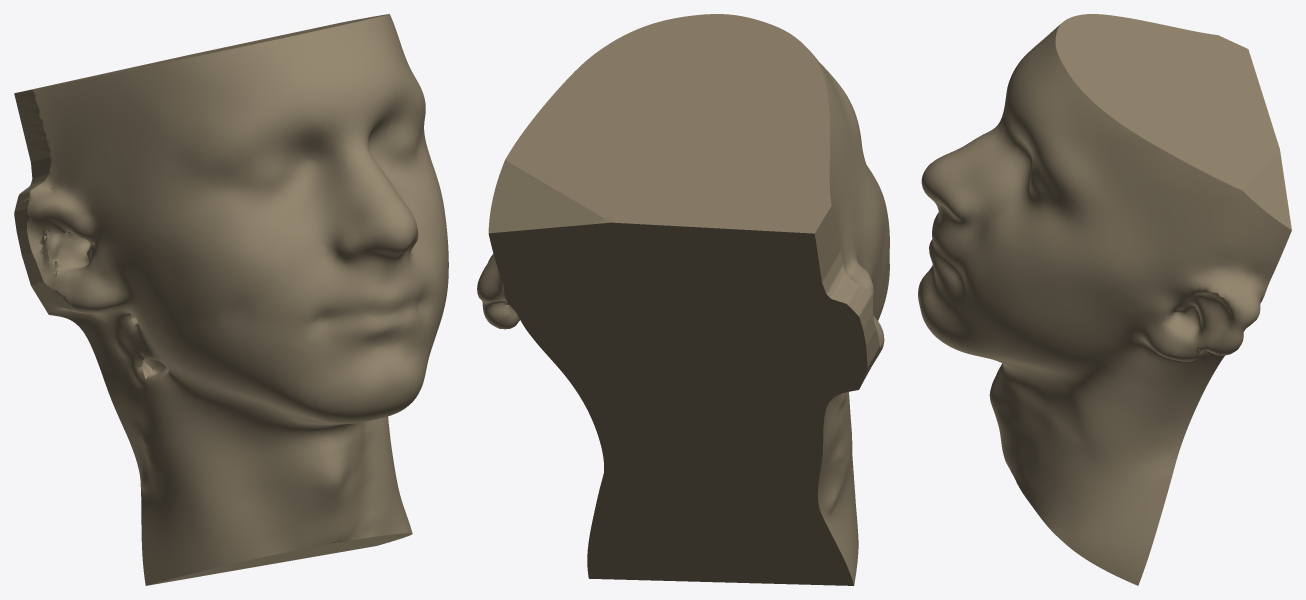
Rendered from fej_2016_v3.glb.
3 renders of one model, left to right at view 1: azimuth 30°, elevation 25°; view 2: azimuth 150°, elevation 25°; view 3: azimuth 270°, elevation 25°, orthographic. The views are drawn at different scales.
Parts seen in each view (by area): view 1: Object_2; view 2: Object_2; view 3: Object_2.
Boxes of the visible parts, x1,y1,x2,y2 form: Object_2: (14,14,448,585); Object_2: (477,14,889,585); Object_2: (918,14,1291,585).
Bounding box in the file's own units: 182 × 266 × 182.
